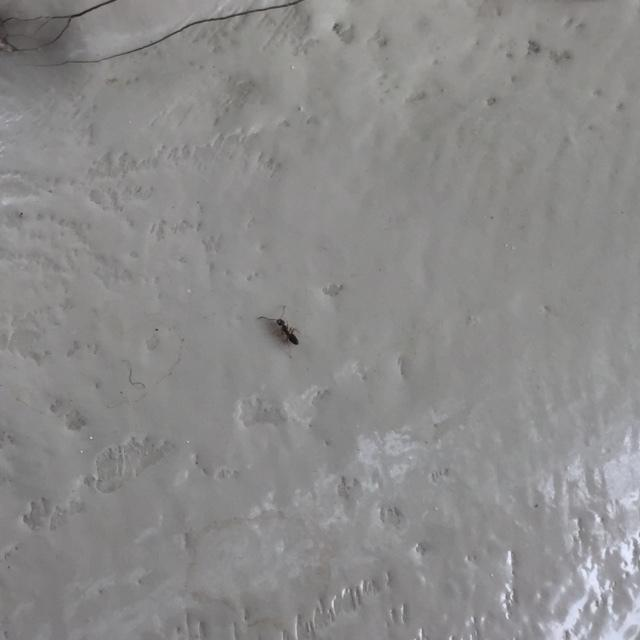Tapinoma: (269, 312, 305, 352)
